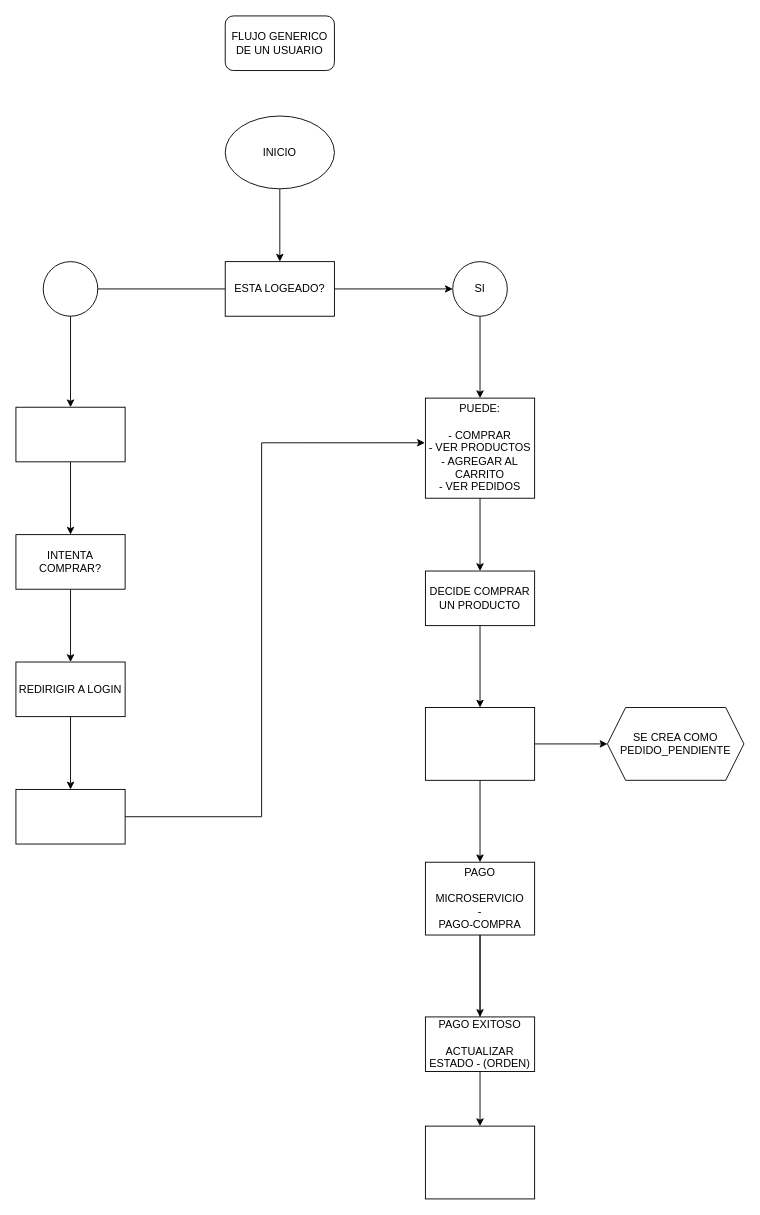
Image size: 760x1215. Some labels were removed from this diagram. Here are the shapes that lost their labels. From the top down, the box of each, then its label:
(42, 261, 98, 316): NO
(15, 406, 125, 462): PUEDE: - NAVEGAR - VER PRODUCTOS
(425, 707, 535, 780): CREAR PEDIDO MICROSERVICIO - ORDEN
(15, 789, 125, 844): AUTENTICACION EXITOSA
(425, 1125, 535, 1199): ENVIO MICROSERVICIO - LOGISTICAS
